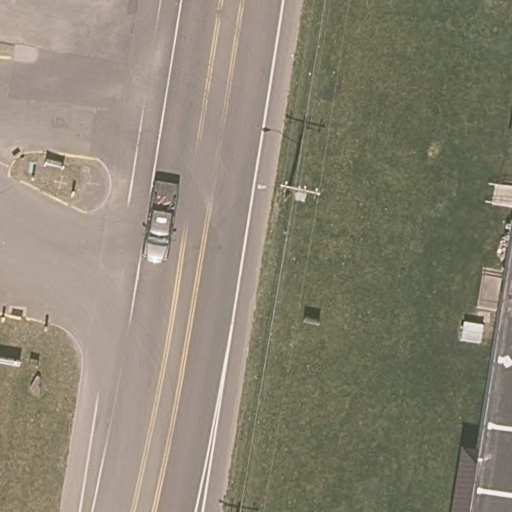DT: (278, 179, 323, 205)
